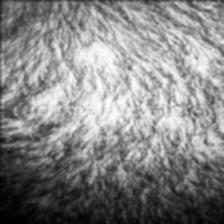Toxin: (76, 132, 166, 176)
